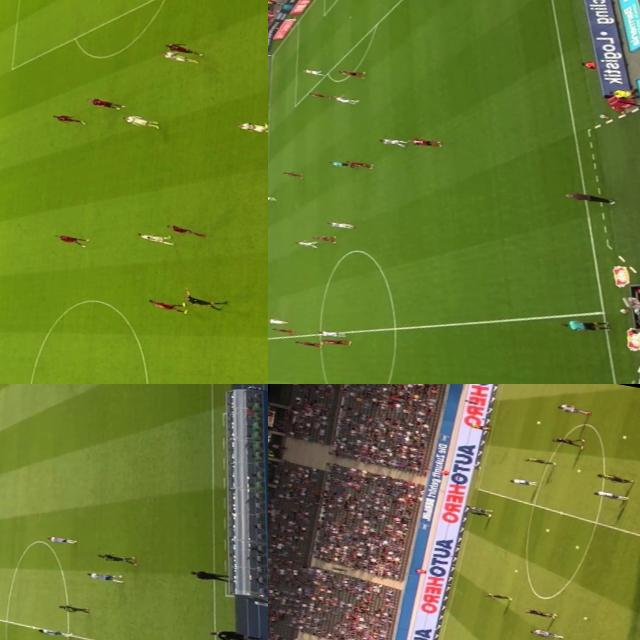ball: (579, 614, 591, 620), (616, 434, 628, 439), (542, 526, 552, 532), (533, 419, 543, 425), (573, 468, 584, 473), (512, 567, 519, 572), (574, 544, 580, 549)
player: (96, 549, 140, 566), (121, 112, 162, 130), (162, 40, 205, 57), (146, 297, 189, 314), (136, 228, 175, 246), (84, 95, 126, 111), (52, 232, 92, 248), (83, 569, 125, 584), (235, 116, 268, 135), (159, 49, 200, 64), (552, 434, 588, 451), (164, 222, 206, 236), (408, 134, 443, 150), (342, 154, 377, 170), (554, 402, 594, 416), (51, 112, 88, 125), (326, 217, 359, 231), (314, 328, 350, 340), (596, 472, 632, 484), (522, 456, 558, 468), (524, 608, 560, 620), (320, 336, 354, 348), (309, 232, 342, 244), (46, 533, 79, 545), (530, 627, 563, 638), (482, 590, 514, 601), (336, 66, 365, 78), (593, 490, 627, 500), (376, 136, 404, 148), (294, 338, 324, 349), (504, 476, 537, 486), (331, 93, 358, 104), (300, 67, 328, 77), (304, 90, 328, 101), (468, 507, 492, 518), (270, 324, 295, 334), (292, 238, 318, 246), (467, 504, 493, 512), (280, 168, 300, 178), (268, 315, 288, 325), (268, 192, 276, 201)
